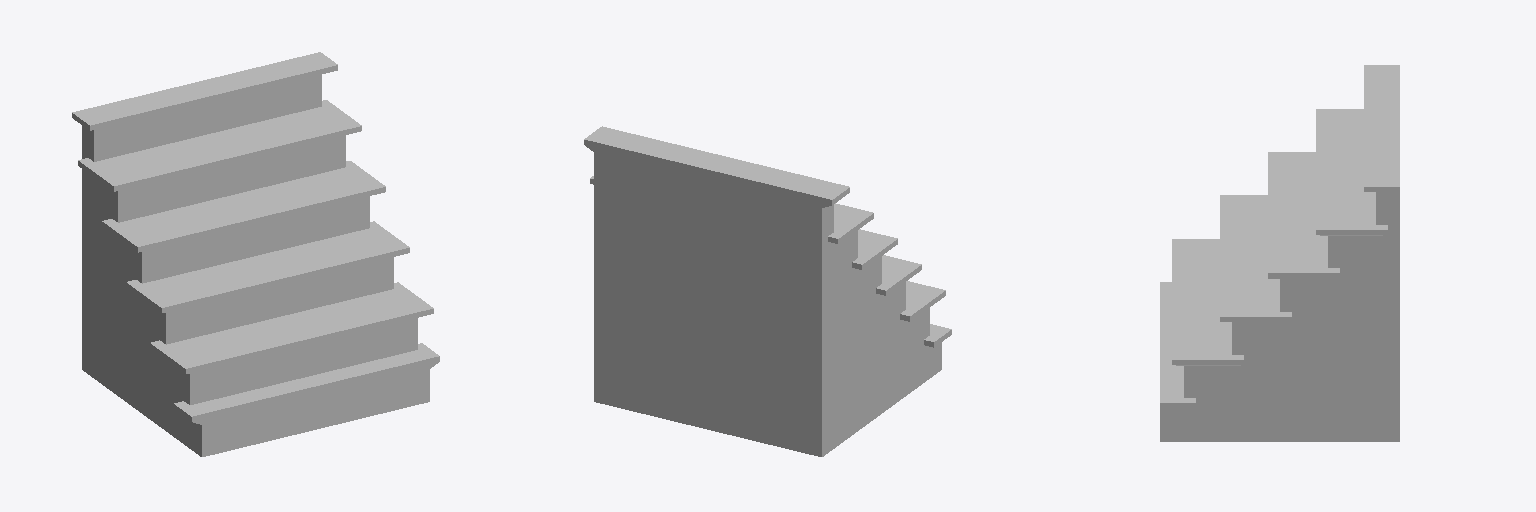
File: Structure_Stairs_Straight.obj
The picture shows the model from 3 angles: view 1: azimuth 30°, elevation 25°; view 2: azimuth 150°, elevation 25°; view 3: azimuth 270°, elevation 25°; orthographic projection.
Parts seen in each view (by area): view 1: object1; view 2: object1; view 3: object1.
Boxes of the visible parts, x1=… form: object1: x1=72, y1=52, x2=439, y2=456; object1: x1=584, y1=126, x2=951, y2=456; object1: x1=1160, y1=65, x2=1399, y2=441.
Size of the model in its own units: 1.2 by 1.2 by 1.